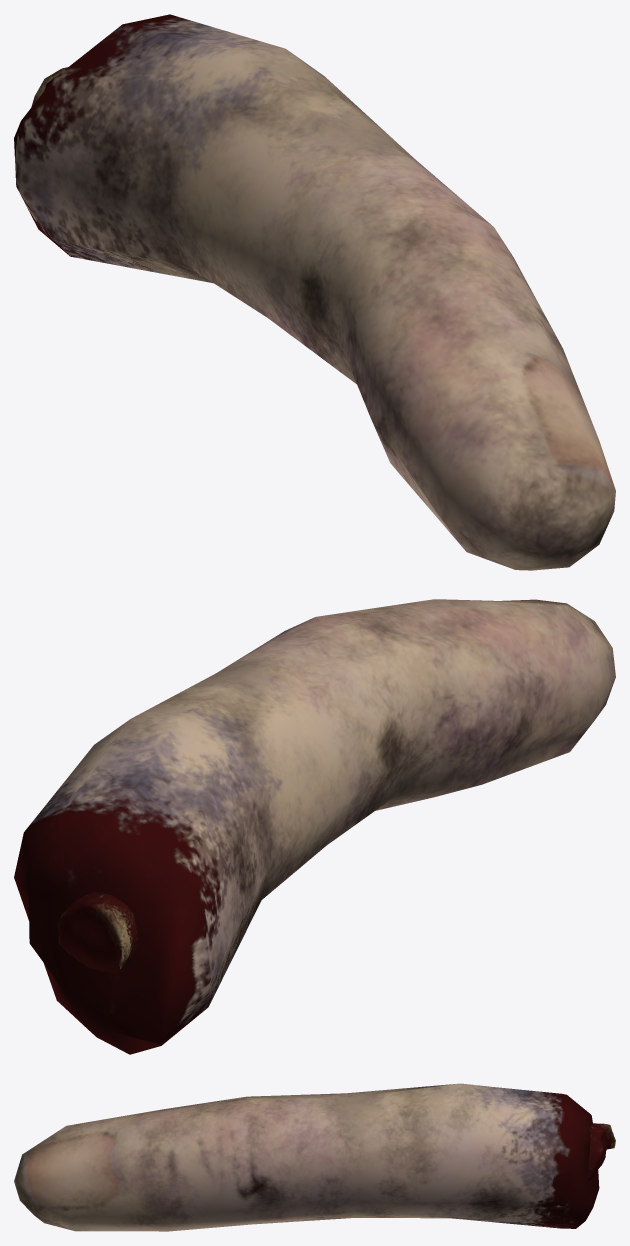
Rendered from UnityFingerSolo.fbx.
3 renders of one model, top to bottom at view 1: azimuth 30°, elevation 25°; view 2: azimuth 150°, elevation 25°; view 3: azimuth 270°, elevation 25°, orthographic. The views are drawn at different scales.
Visible parts, largest first — view 1: Fingers_low; view 2: Fingers_low, Bones_low; view 3: Fingers_low, Bones_low.
Boxes of the visible parts, <box> form: Fingers_low: <box>14,14,615,570</box>; Fingers_low: <box>14,599,615,1054</box>; Bones_low: <box>57,892,138,972</box>; Fingers_low: <box>14,1083,599,1231</box>; Bones_low: <box>587,1123,615,1180</box>.
Size of the model in its own units: 2.36 by 2.54 by 8.97.
2 materials, 2 textured.
